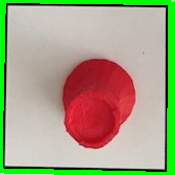Red Castle: (56, 55, 137, 151)
